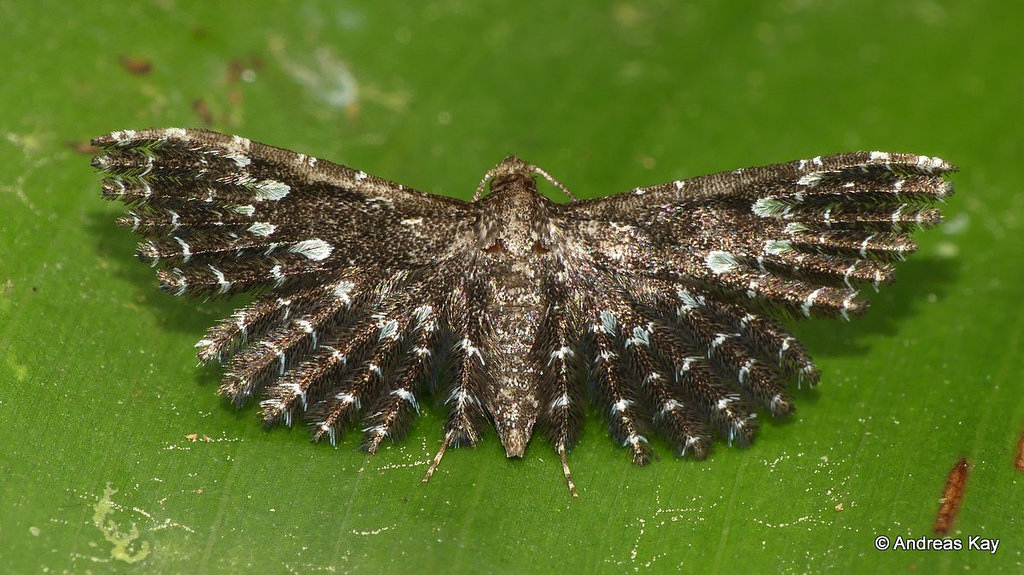Alucitidae: (76, 110, 953, 497)
moth: (78, 112, 955, 499)
